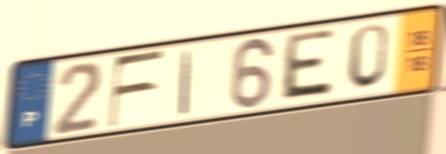0: (343, 21, 391, 93)
2: (52, 58, 107, 138)
6: (228, 35, 276, 113)
E: (276, 26, 338, 104)
F: (106, 47, 168, 131)
I: (177, 48, 195, 117)
